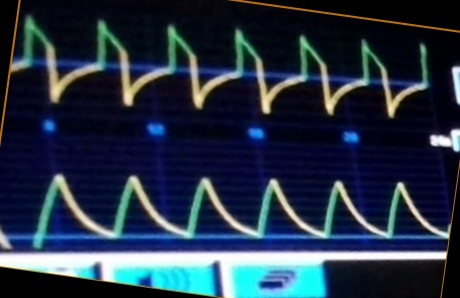Normal Flow: (14, 14, 429, 117)
Normal Volume: (1, 153, 447, 250)
